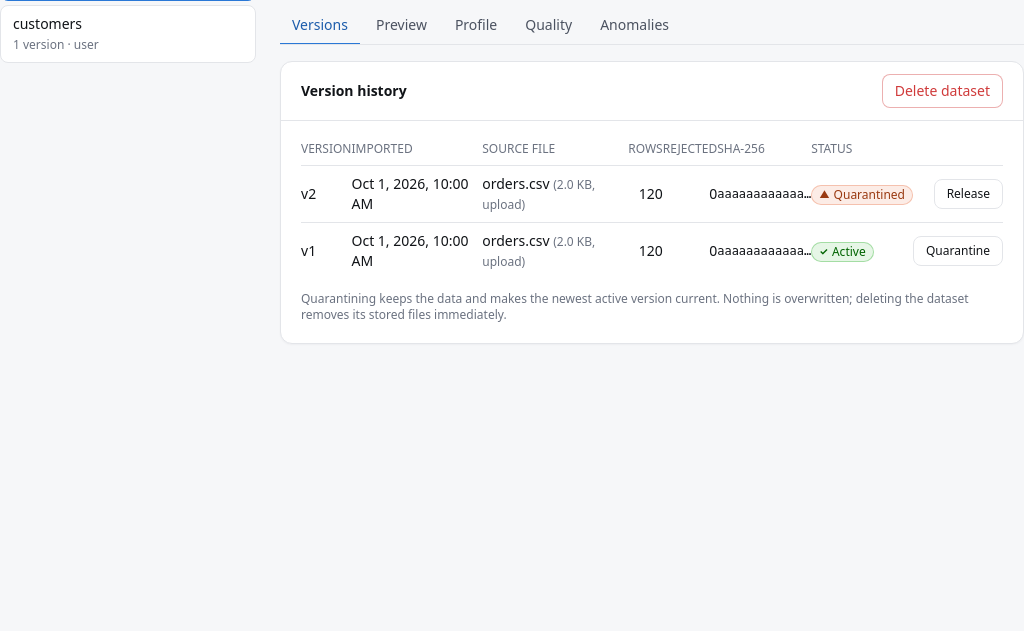
DatasetsPage › displays exact profile statistics
What coordinates should you click on to do the following:
click the tab "Profile"
I would click on:
 (476, 26)
Its box is [443, 7, 509, 45].
(page scrolled)
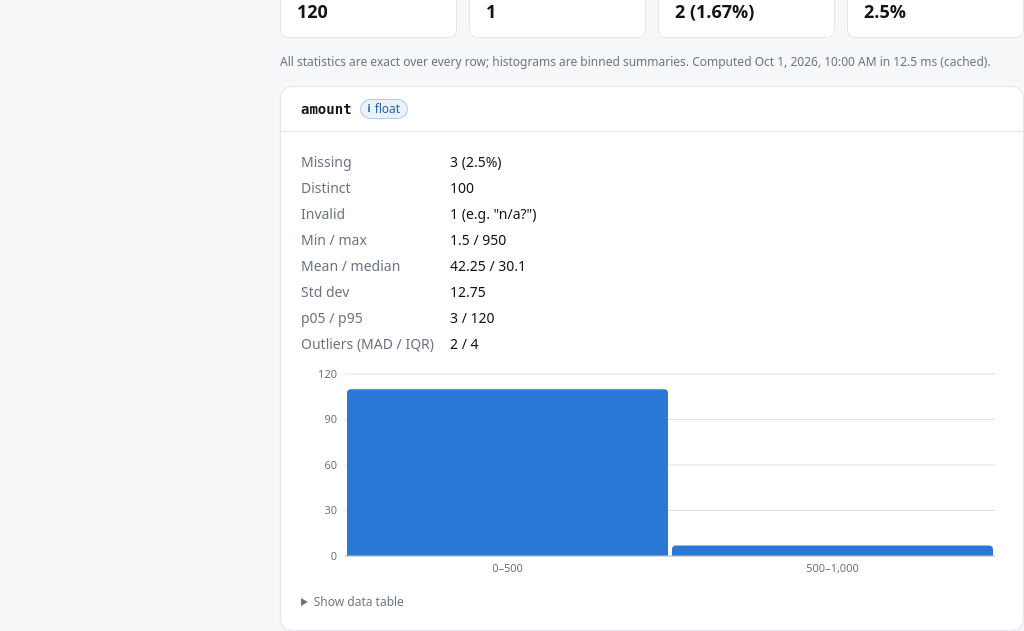
Check: the text "3 (2.5%)" is shown, box [450, 152, 502, 171]
Check: the text "42.25 / 30.1" is shown, box [450, 256, 526, 275]
Check: the text "2 / 4" is shown, box [450, 334, 478, 353]
